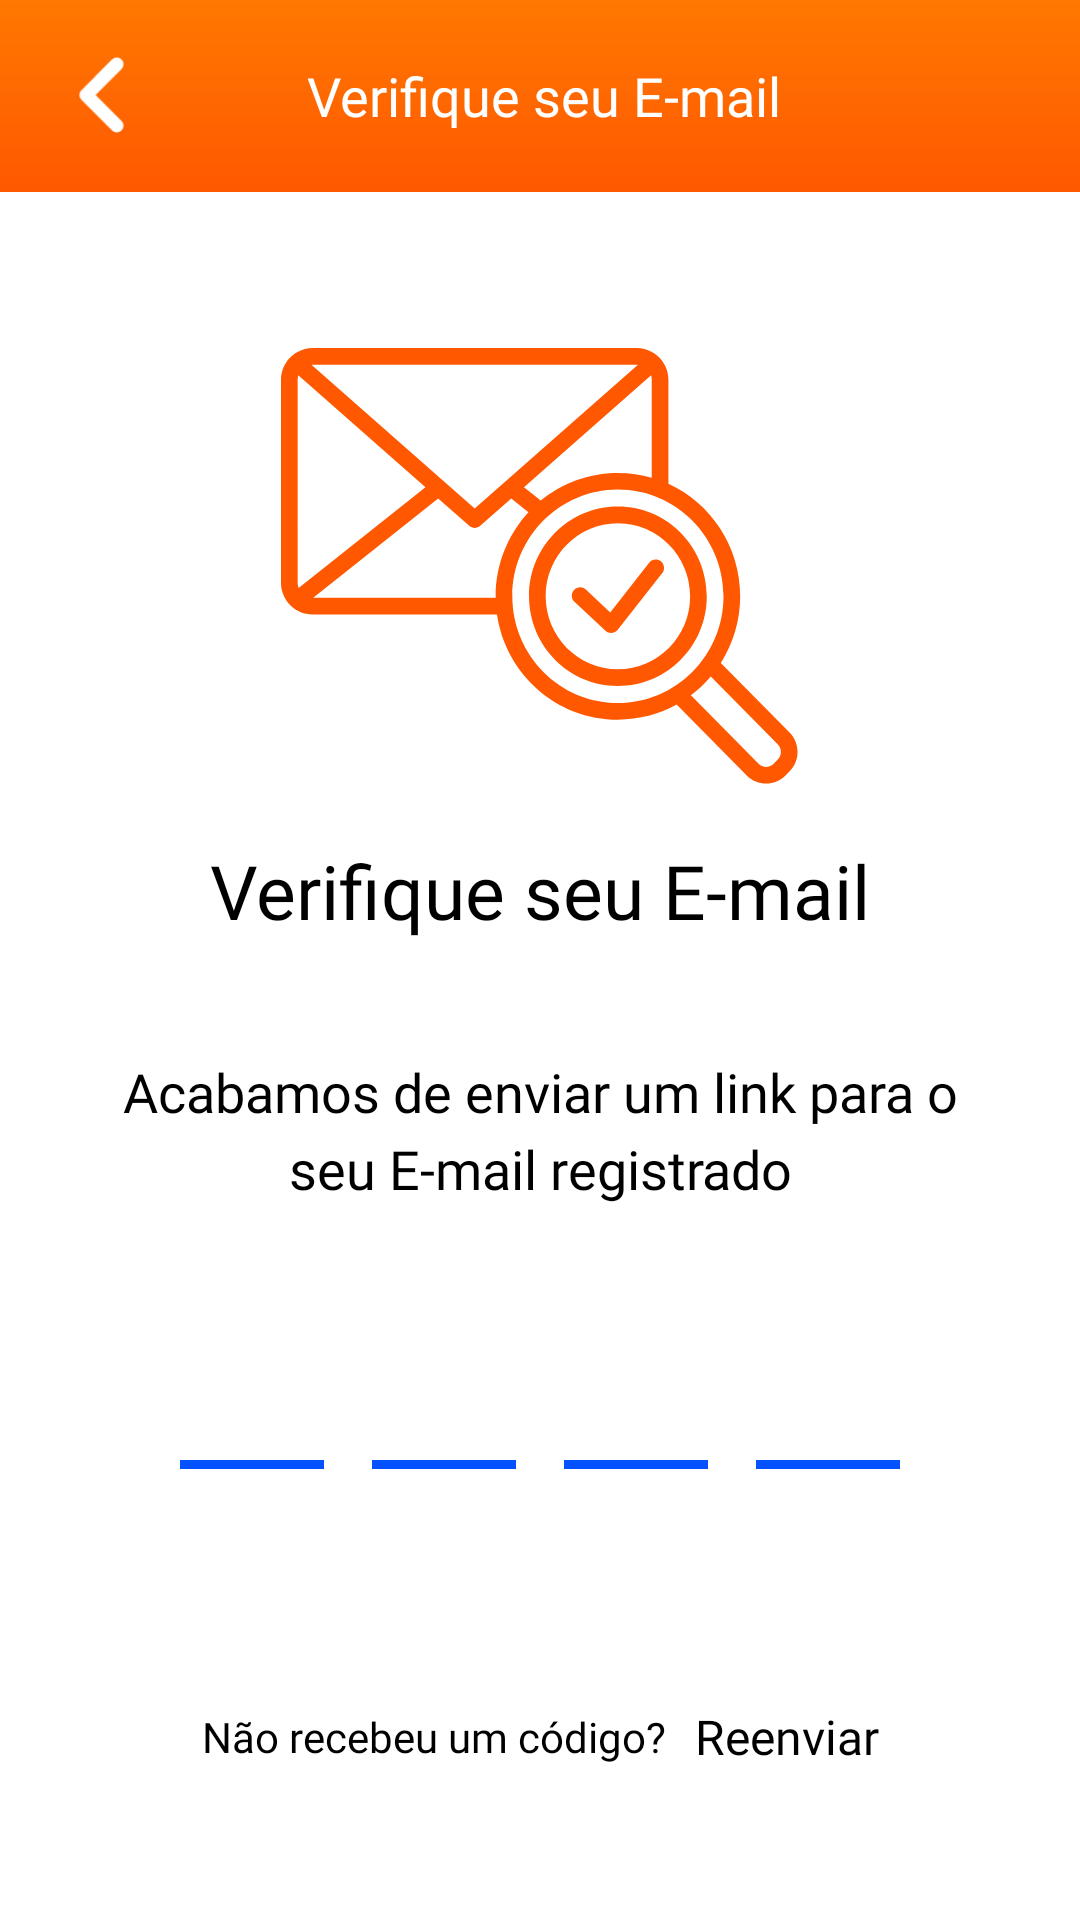

Icon click points for this 1080 × 1920 phone screenshot, format point (x, y):
back: point (102, 109)
